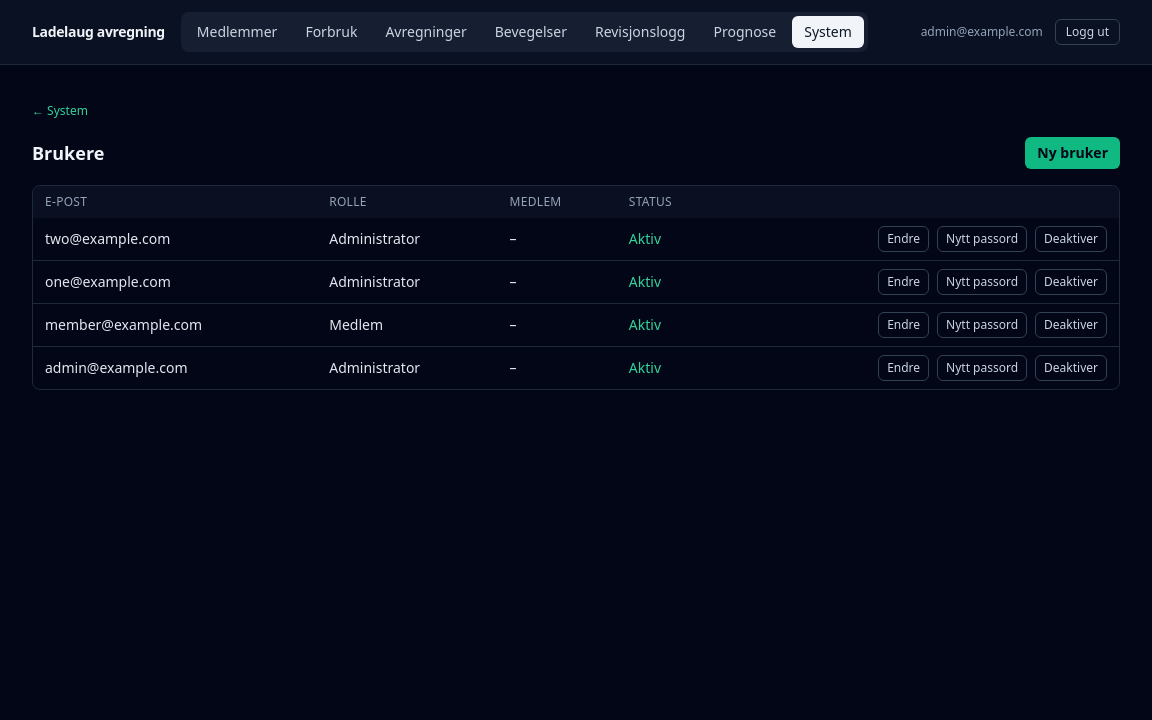
Users (admin) › surfaces the email_taken 422 when editing to a used address
Click the button "Endre" in the row of "two@example.com": [904, 239] box [878,226,929,252]
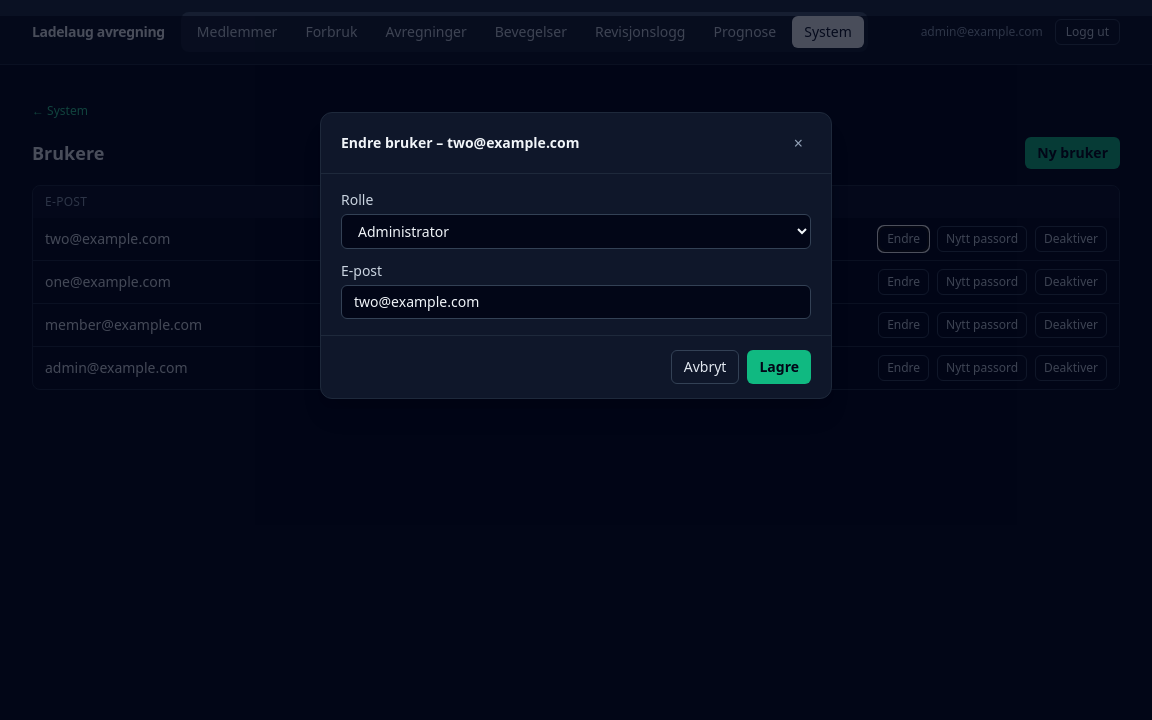
Replace the text in the field labelled "E-post" with "one@example.com": [576, 302] box [341,285,811,319]
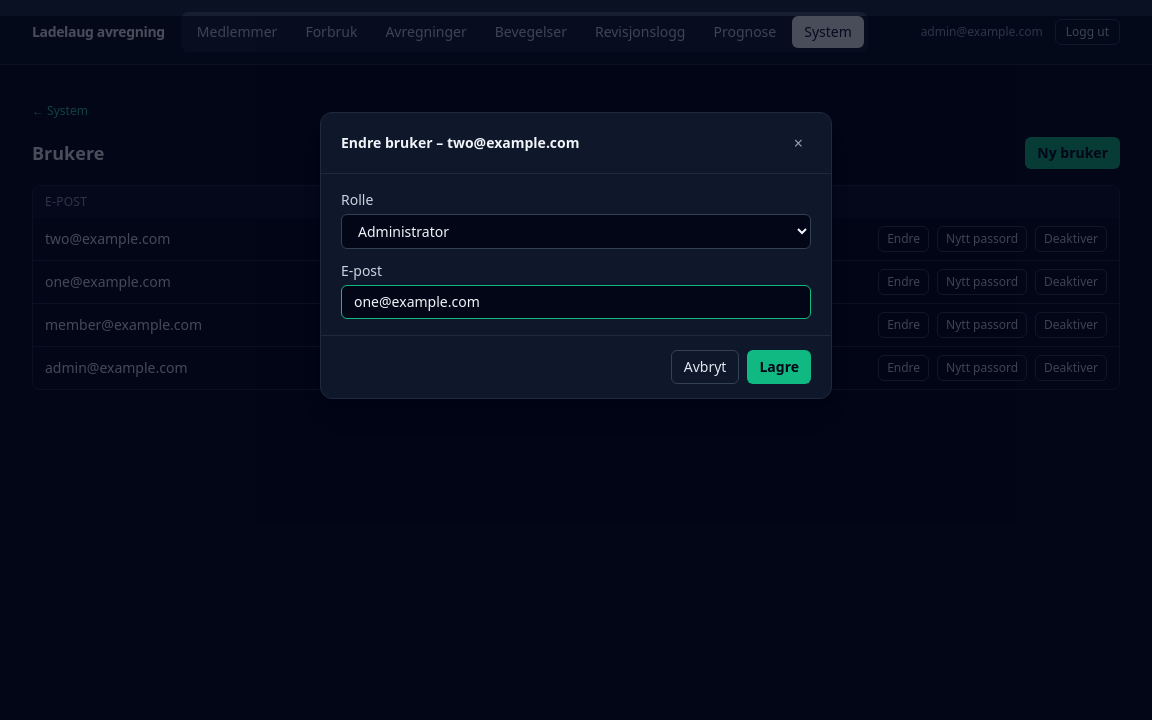
Click the button "Lagre": [779, 367] box [747,350,811,384]
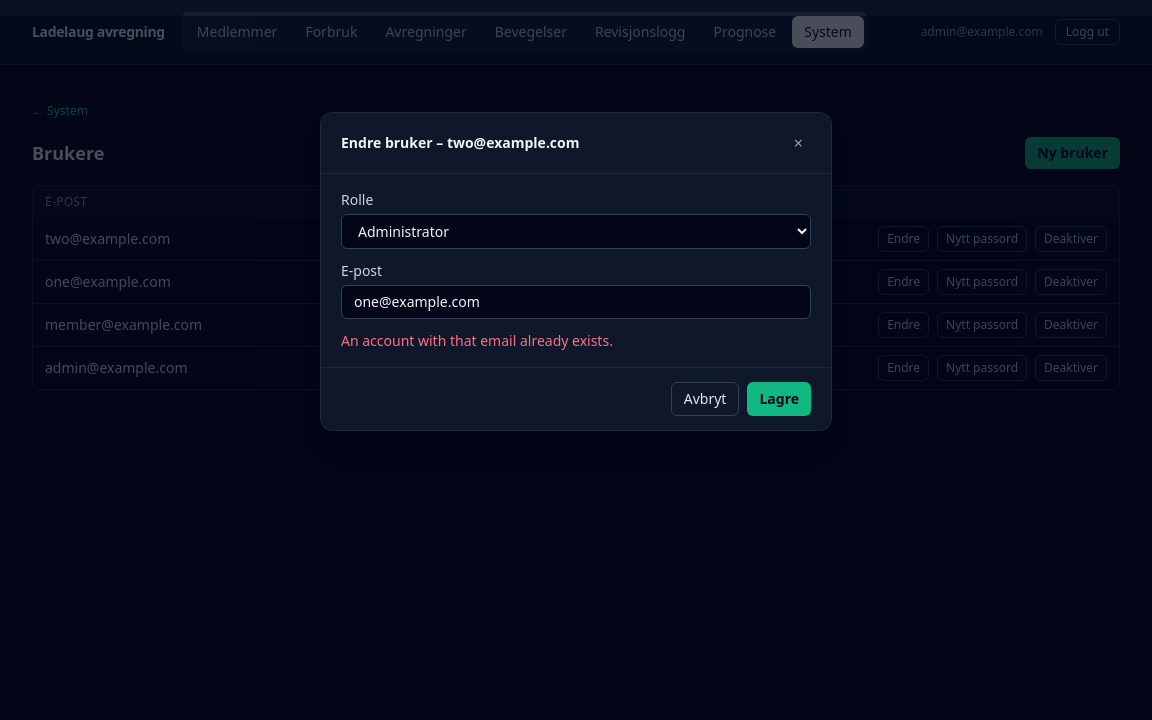
Expected: the message shows "already exists", [341,331,613,350]
